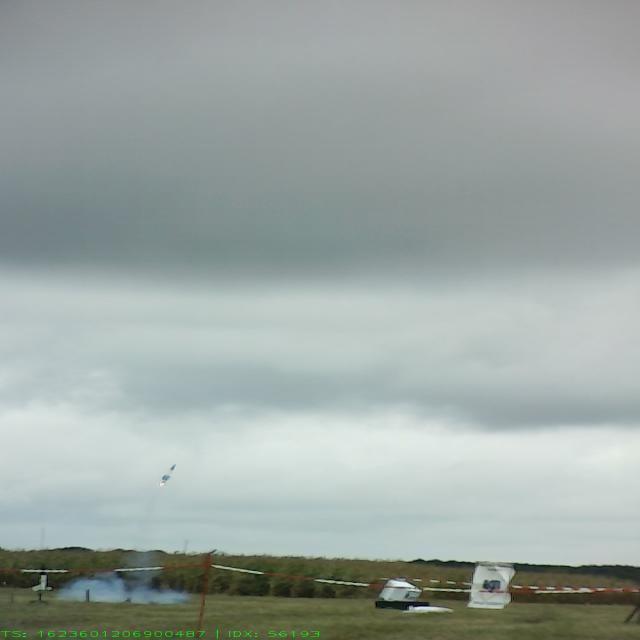Rocket: (31, 563, 54, 592), (159, 463, 178, 483)
